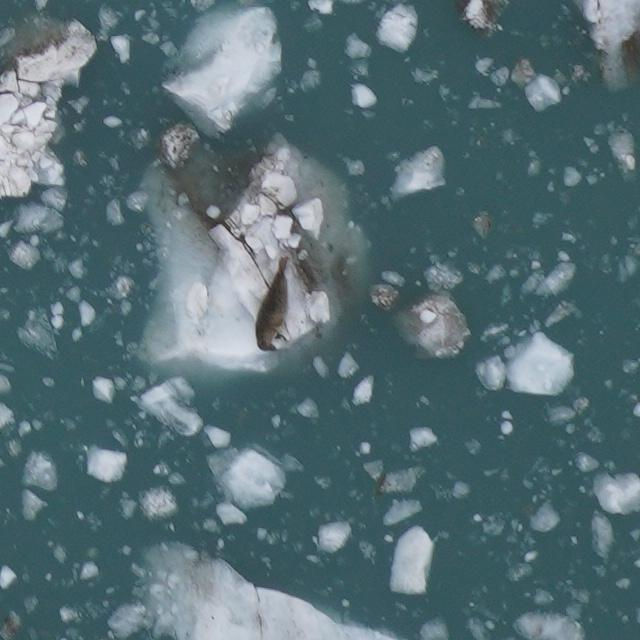seal: (252, 253, 294, 356)
